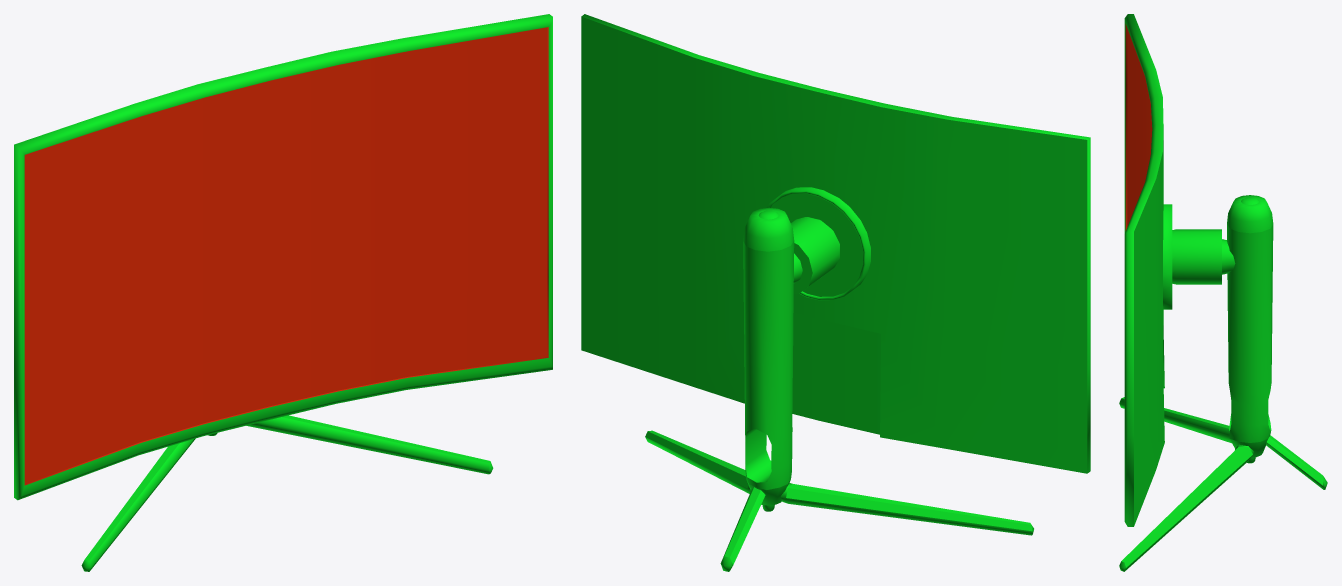
The model's file is CurvedDesktop.fbx.
3 views of the same model, side by side, from view 1: azimuth 30°, elevation 25°; view 2: azimuth 150°, elevation 25°; view 3: azimuth 270°, elevation 25° (orthographic). The views are drawn at different scales.
Visible parts, largest first — view 1: Curved Desktop; view 2: Curved Desktop; view 3: Curved Desktop.
Part boxes in pixels (x1=…): Curved Desktop: x1=14, y1=14, x2=552, y2=571; Curved Desktop: x1=581, y1=14, x2=1090, y2=571; Curved Desktop: x1=1119, y1=14, x2=1327, y2=571.
Bounding box in the file's own units: 70.99 × 55.56 × 28.69.
